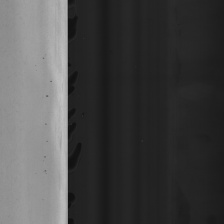oil_spot: (41, 148, 48, 165), (45, 83, 50, 104), (43, 119, 50, 130), (41, 51, 47, 62), (41, 168, 47, 177)
